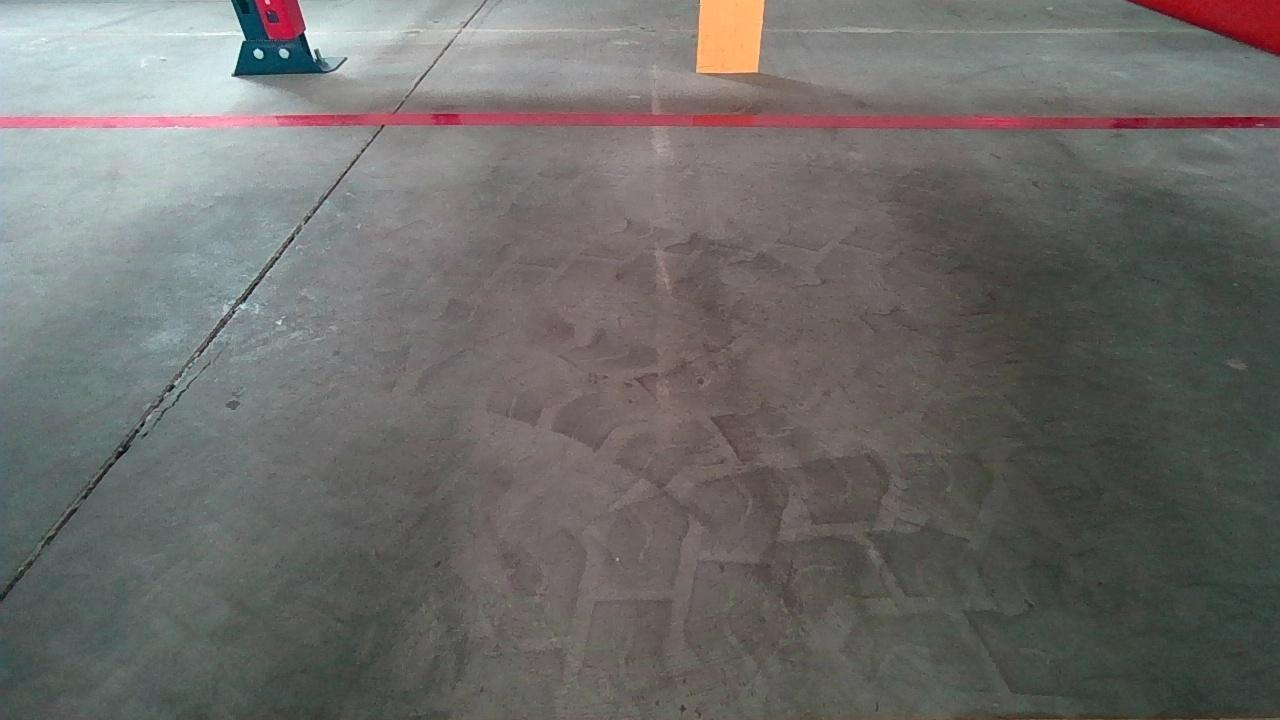red_line: (0, 112, 1280, 128)
